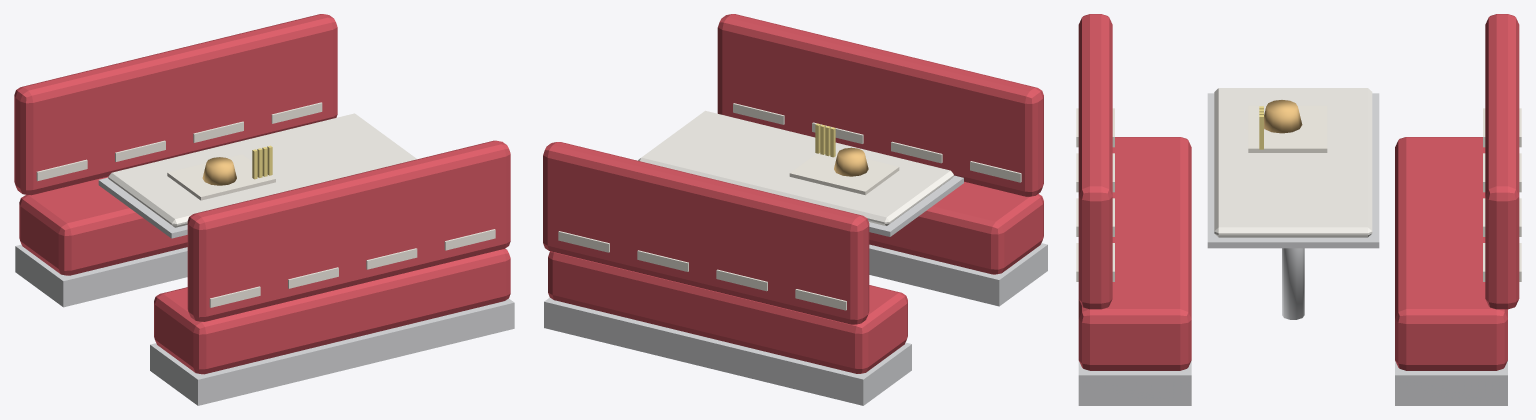
The model's file is booth-chicken.glb.
3 renders of one model, left to right at view 1: azimuth 30°, elevation 25°; view 2: azimuth 150°, elevation 25°; view 3: azimuth 270°, elevation 25°, orthographic. The views are drawn at different scales.
Parts seen in each view (by area): view 1: booth-chicken; view 2: booth-chicken; view 3: booth-chicken.
Part boxes in pixels (bbox=[...]): booth-chicken: bbox=[14, 14, 514, 405]; booth-chicken: bbox=[543, 14, 1047, 405]; booth-chicken: bbox=[1076, 14, 1521, 405].
Size of the model in its own units: 1.9 by 1.05 by 1.97.
